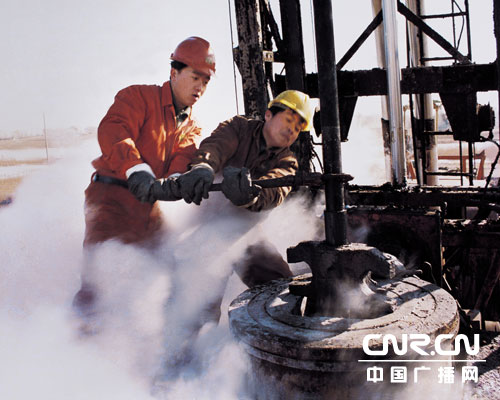helmet: (159, 25, 220, 110), (259, 80, 317, 151)
